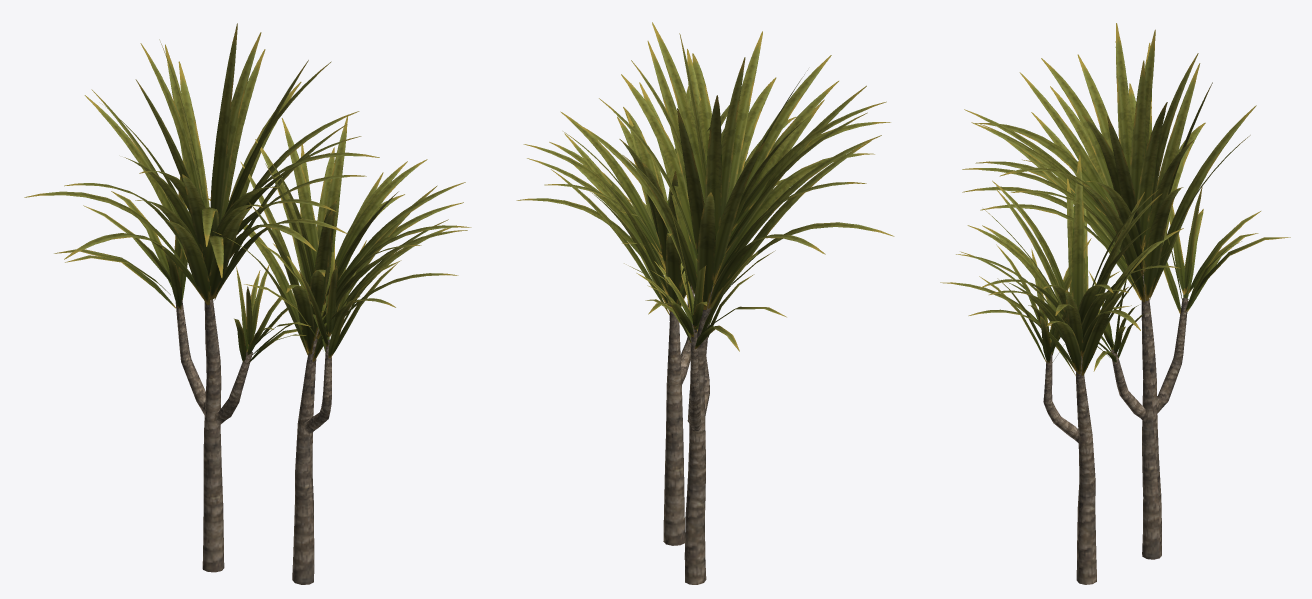
The model's file is SM_VegetationC.fbx.
3 renders of one model, left to right at view 1: azimuth 30°, elevation 25°; view 2: azimuth 150°, elevation 25°; view 3: azimuth 270°, elevation 25°, orthographic. The views are drawn at different scales.
Parts seen in each view (by area): view 1: SM_VegetationC_LOD0; view 2: SM_VegetationC_LOD0; view 3: SM_VegetationC_LOD0.
Part boxes in pixels (x1,y1,x2,y2): SM_VegetationC_LOD0: (24,23,471,584); SM_VegetationC_LOD0: (516,22,894,584); SM_VegetationC_LOD0: (940,23,1290,584).
Bounding box in the file's own units: 67.07 × 58.82 × 90.94.
